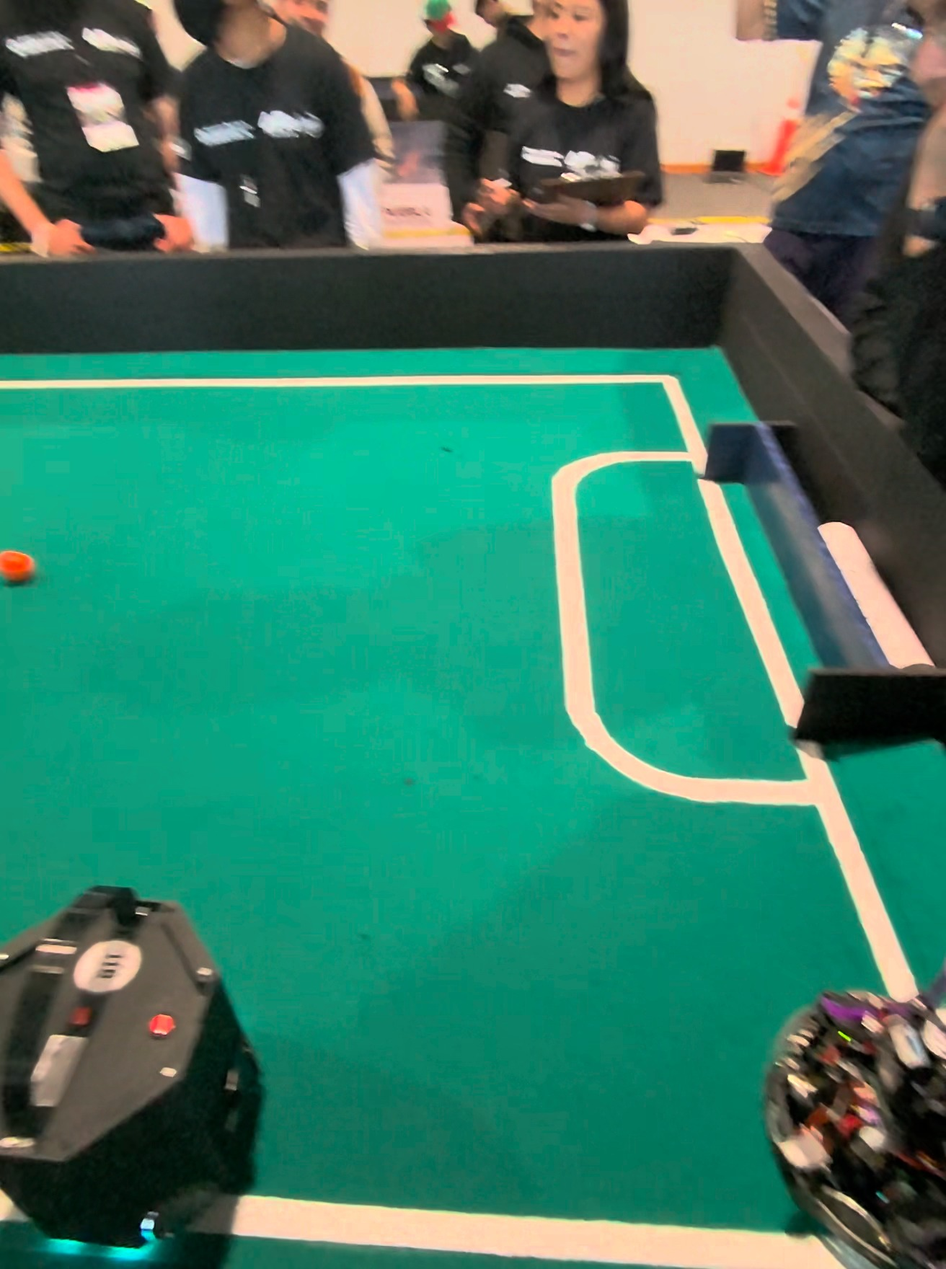Robot: (0, 862, 272, 1262), (756, 931, 946, 1269)
pelota: (0, 548, 36, 587)
